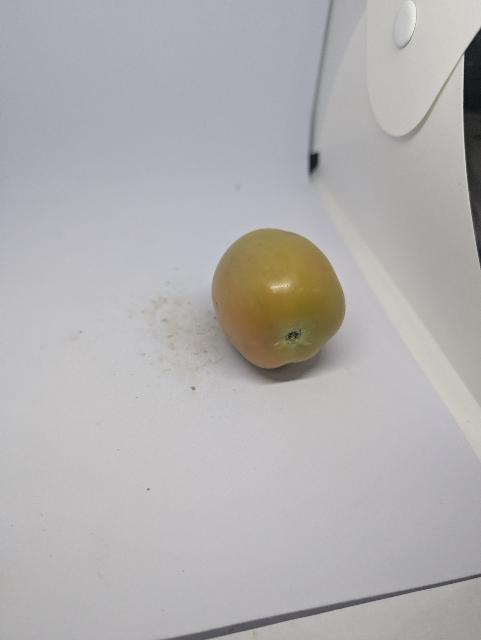breaker: (212, 229, 346, 368)
